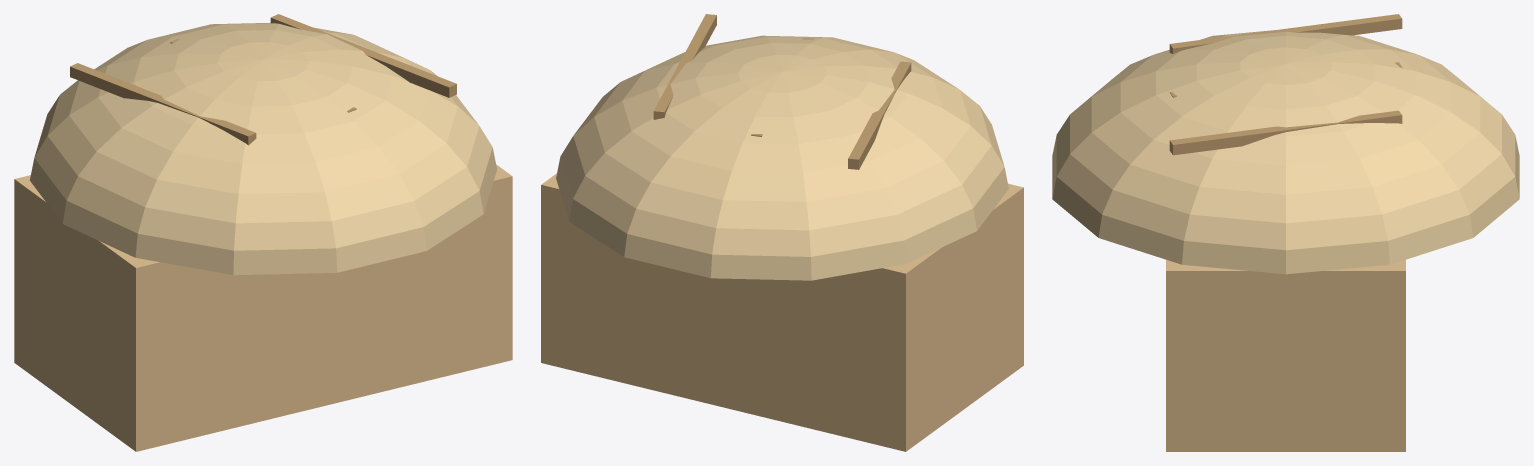
Rendered from 4180_bread.glb.
3 renders of one model, left to right at view 1: azimuth 30°, elevation 25°; view 2: azimuth 150°, elevation 25°; view 3: azimuth 270°, elevation 25°, orthographic. The views are drawn at different scales.
Bounding box in the file's own units: 0.8 × 0.575 × 0.8189.
